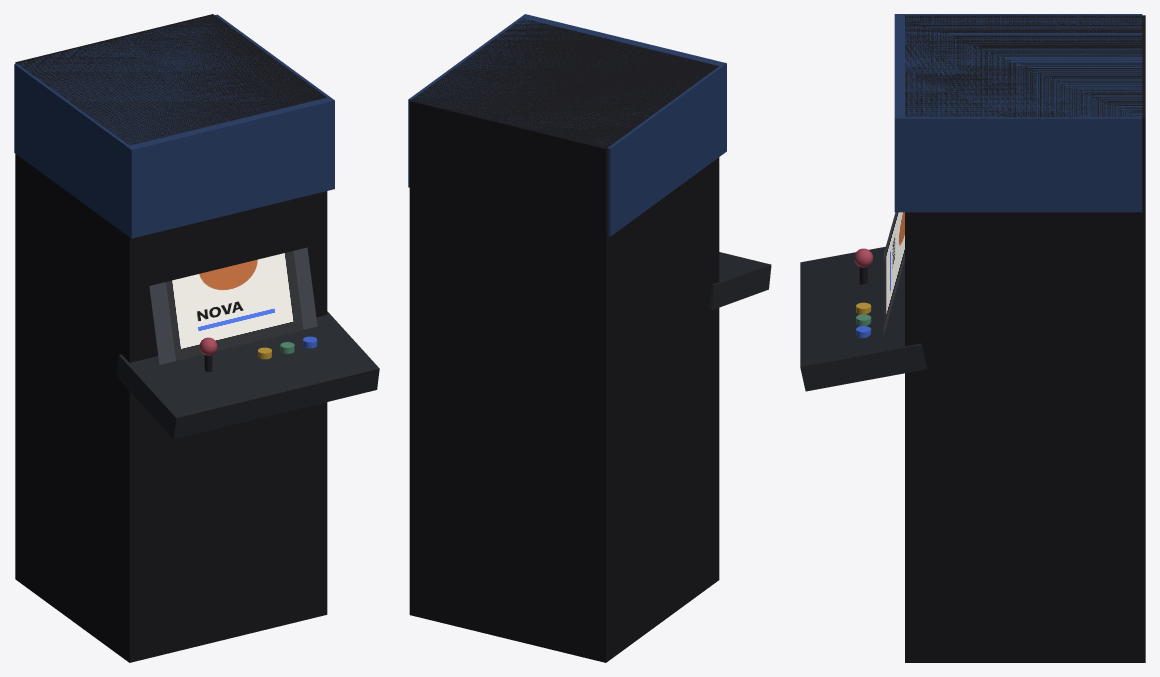
Rendered from fliperama.glb.
3 renders of one model, left to right at view 1: azimuth 30°, elevation 25°; view 2: azimuth 150°, elevation 25°; view 3: azimuth 270°, elevation 25°, orthographic. The views are drawn at different scales.
Parts seen in each view (by area): view 1: fliperama_malha; view 2: fliperama_malha; view 3: fliperama_malha.
Part boxes in pixels (x1,y1,x2,y2): fliperama_malha: (14,14,379,662); fliperama_malha: (408,14,771,662); fliperama_malha: (800,14,1145,662).
Size of the model in its own units: 0.72 by 1.75 by 1.
Materials: 3 (1 with a texture image).
